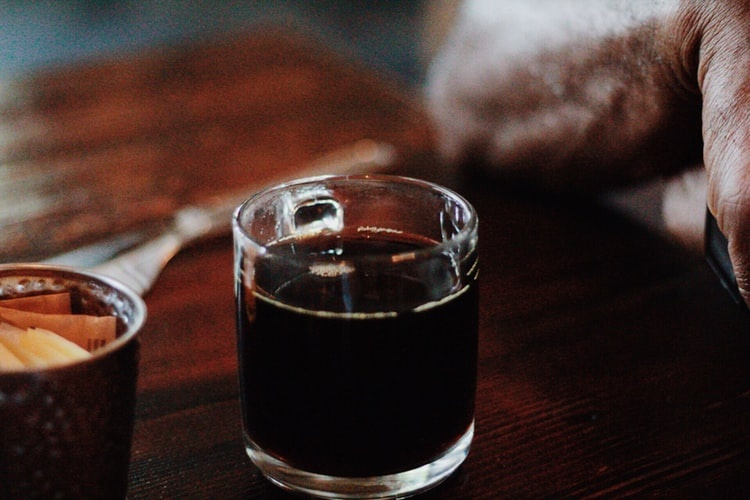whiskey: (234, 176, 480, 491)
